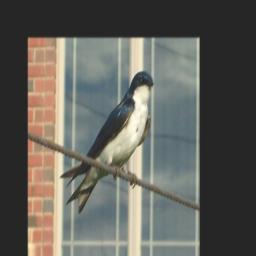Swallow: (59, 70, 155, 215)
